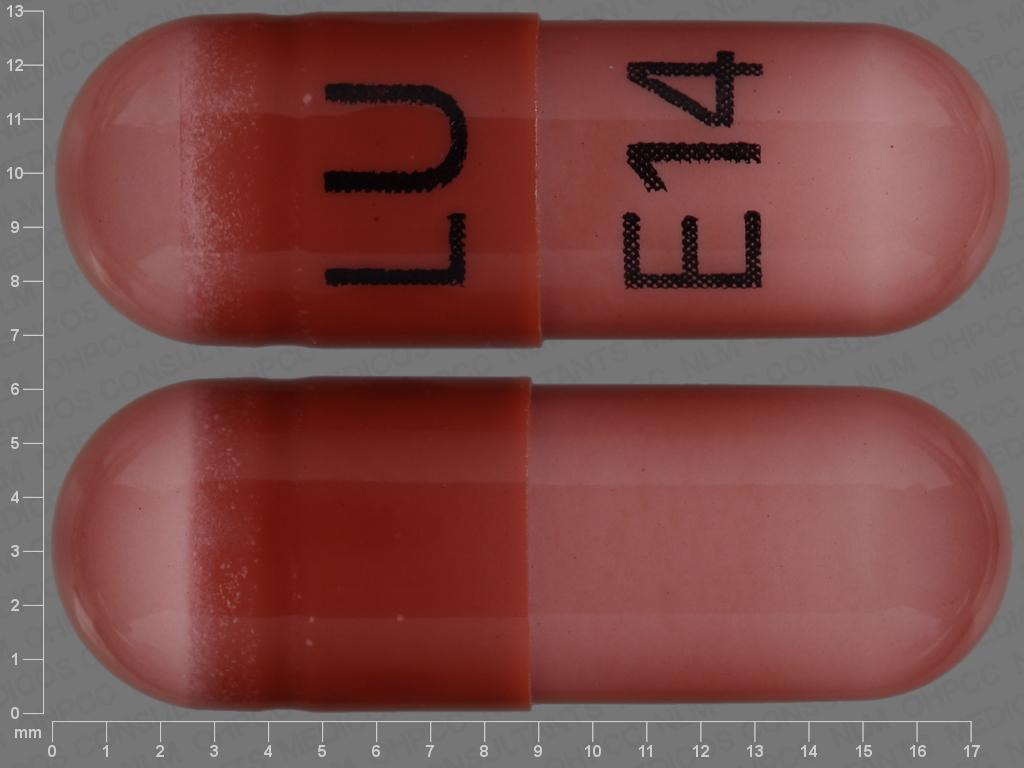Pill: (48, 365, 1020, 716), (49, 4, 1014, 354)
